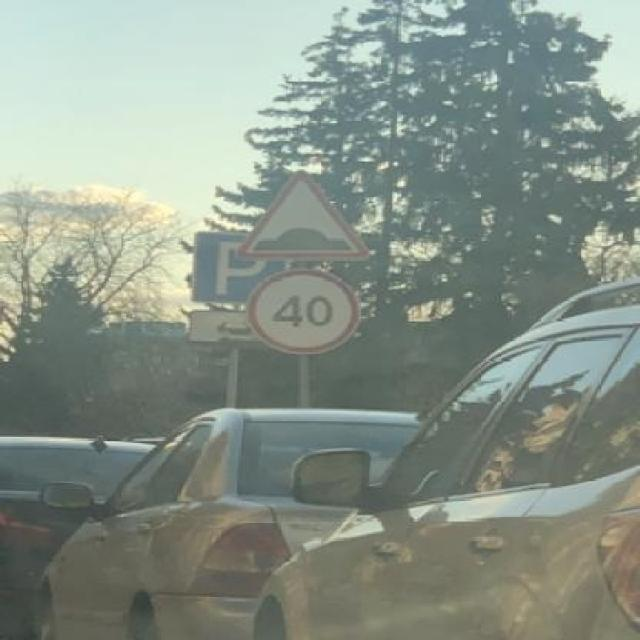forb_speed_over_40: (247, 271, 358, 355)
